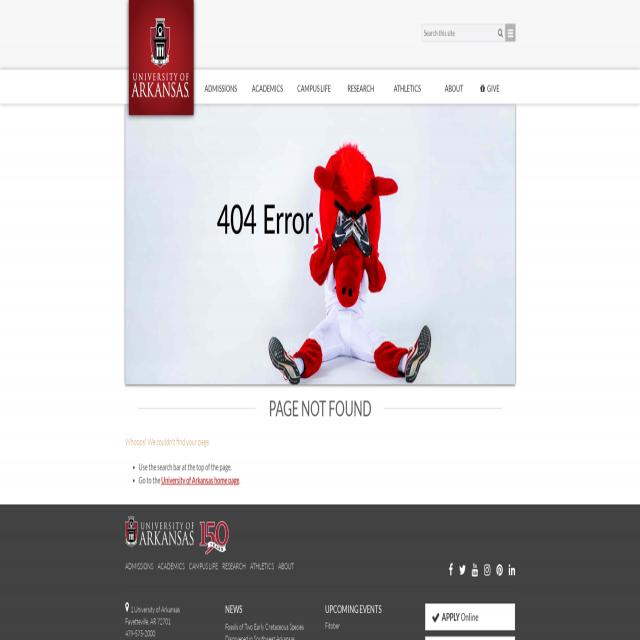button: (128, 0, 193, 115), (125, 516, 229, 554), (425, 606, 515, 628), (384, 70, 431, 104), (198, 70, 244, 104), (244, 70, 290, 104), (291, 70, 337, 104), (338, 70, 384, 104), (431, 70, 477, 104), (505, 23, 515, 42), (496, 560, 503, 580), (459, 560, 465, 580), (472, 560, 478, 580), (484, 560, 490, 580), (509, 560, 515, 580), (449, 560, 453, 580), (497, 27, 503, 38)
field: (421, 24, 505, 42)
